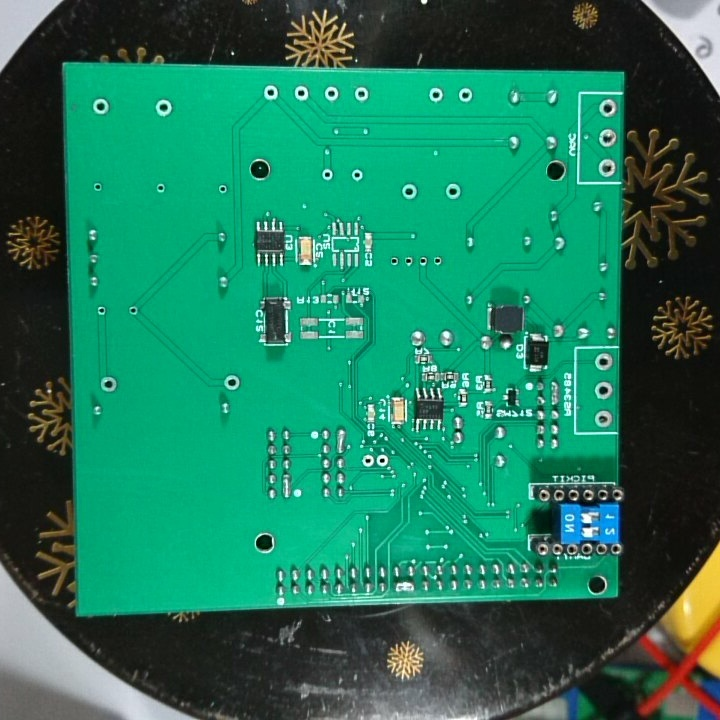F: (152, 94, 175, 121), (592, 350, 616, 372), (221, 372, 245, 394), (597, 126, 619, 149), (592, 380, 615, 402), (98, 373, 120, 396), (320, 82, 342, 105), (593, 405, 614, 429), (597, 155, 617, 179), (90, 94, 110, 118), (597, 98, 618, 120), (261, 81, 282, 103), (292, 82, 312, 105), (443, 178, 462, 202), (400, 180, 420, 202), (456, 84, 475, 106), (351, 82, 369, 104), (427, 85, 446, 104), (375, 451, 391, 470), (361, 452, 376, 472), (126, 302, 142, 319), (320, 165, 336, 181), (153, 179, 167, 197), (91, 178, 106, 194), (216, 181, 230, 198), (350, 166, 364, 183), (401, 250, 414, 268), (431, 251, 443, 270), (95, 303, 108, 319), (389, 253, 401, 269), (417, 253, 429, 268)
P: (547, 376, 562, 407), (392, 578, 416, 597), (279, 472, 293, 500), (335, 425, 348, 455)
